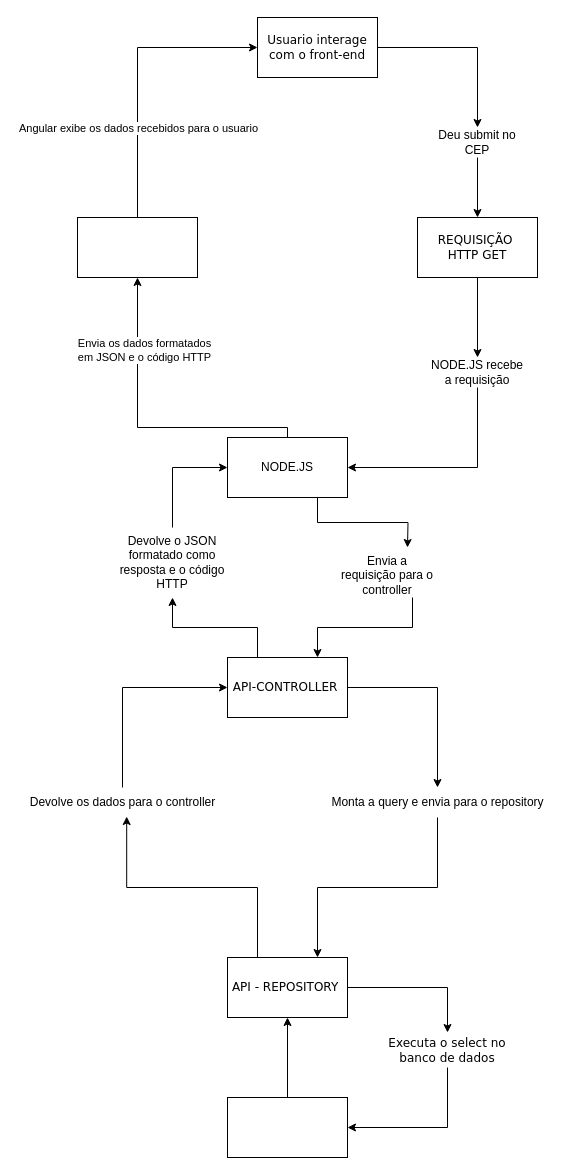
Some shapes in this 574 by 1175 pixel diagram are drawn without their labels. Each missing label, with the centre of its shape:
"Angular" goes at pixel 137 247.
"BANCO DE DADOS DE CEP" goes at pixel 287 1127.
